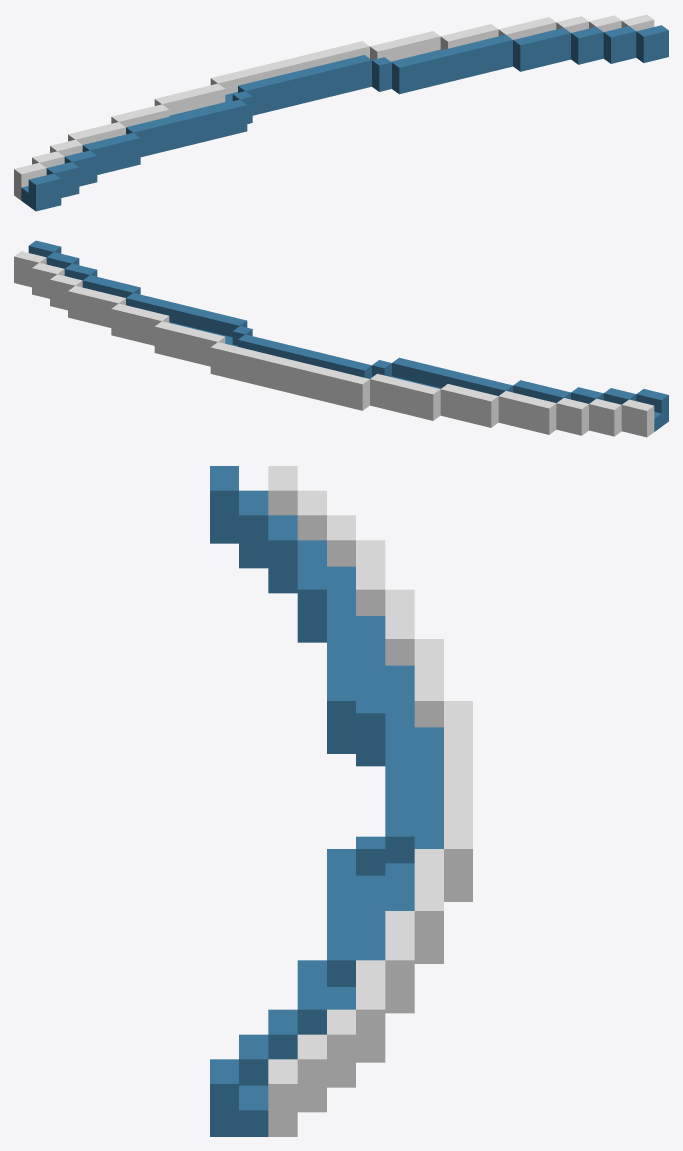
Rendered from волна 1.obj.
3 views of the same model, one above another, from view 1: azimuth 30°, elevation 25°; view 2: azimuth 150°, elevation 25°; view 3: azimuth 270°, elevation 25° (orthographic). The views are drawn at different scales.
Size of the model in its own units: 5 by 0.2 by 0.9.
Materials: 1 (1 with a texture image).
